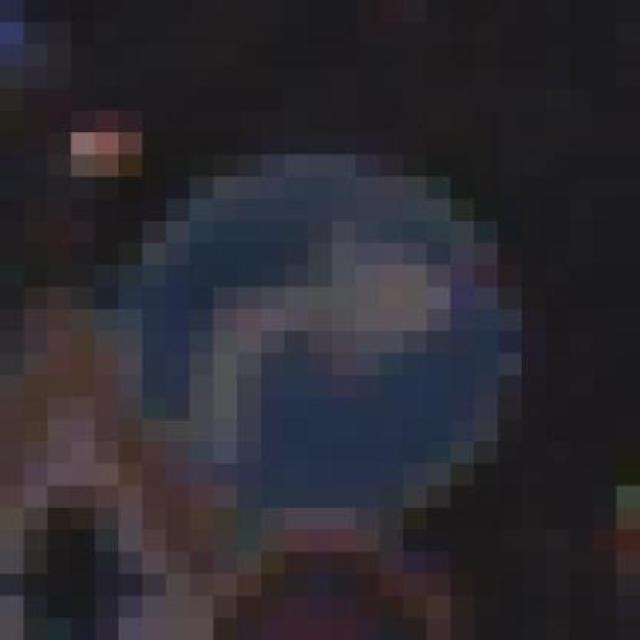Turn right ahead: (76, 102, 550, 544)
